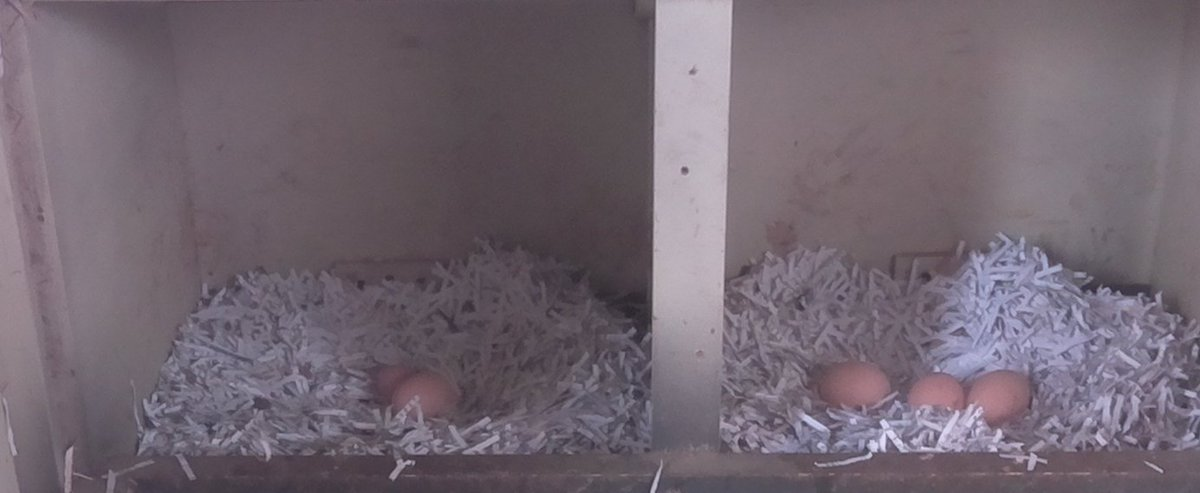egg: (388, 368, 463, 423), (968, 366, 1034, 424), (817, 360, 892, 408), (903, 369, 966, 420), (370, 357, 418, 400)
